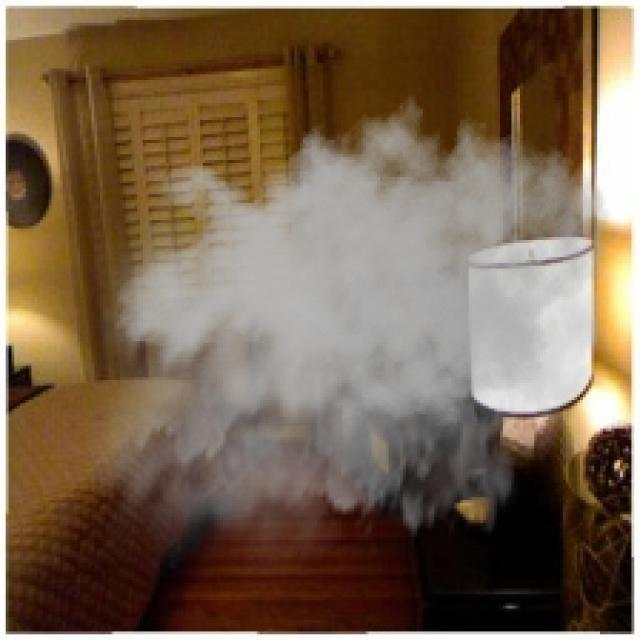smoke: (66, 80, 611, 594)
